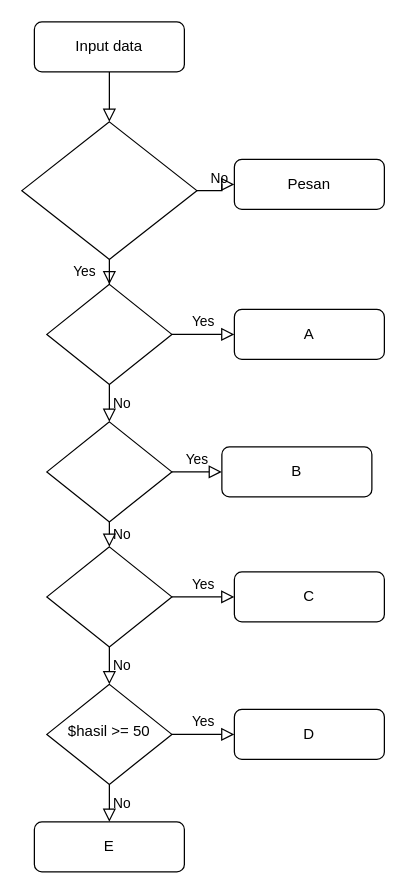
The diagram is 406 pixels wide and 894 high, and some of its shapes have lost their labels. The shapes that lost their labels are listed below. From the top down, each one's box as (x1, y1, x2, y2) in pixels, then its label:
(21, 121, 197, 259): $hasil <= 100 && $hasil >=0
(46, 283, 172, 384): $hasil >= 80
(46, 421, 172, 522): $hasil >= 70
(46, 546, 172, 647): $hasil >= 60
